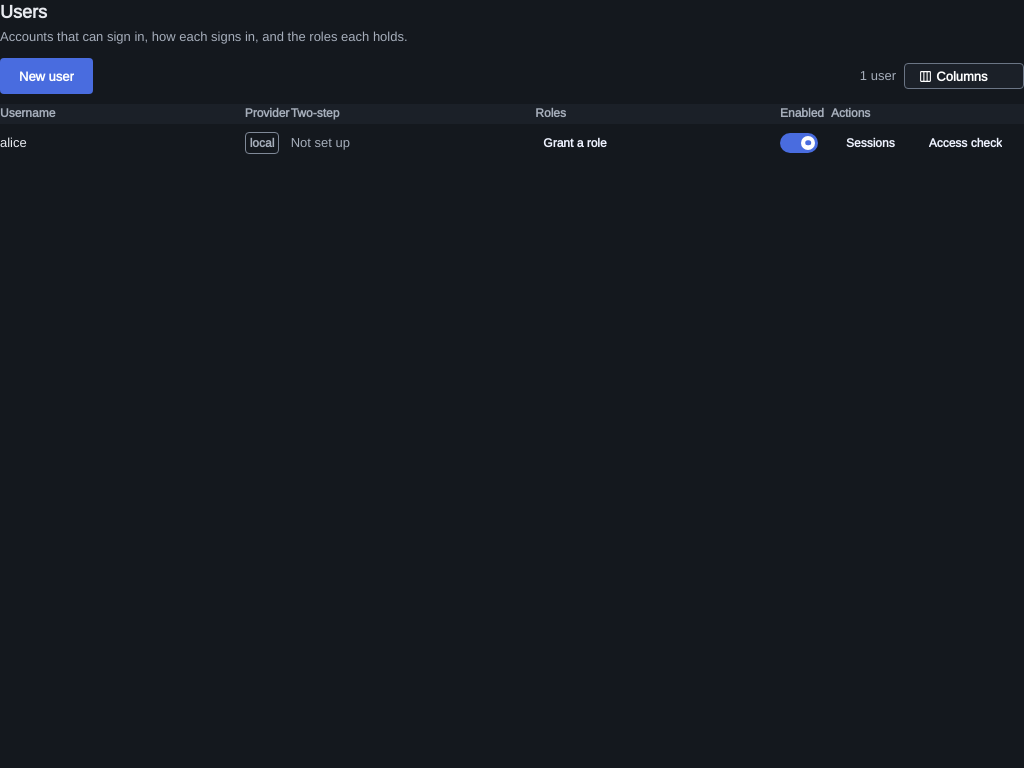
Test case: the sessions drawer of a user › opens from the row, lists the sessions, ends one and announces it
This screenshot has width=1024, height=768.
Click the button with aria-label "Sessions of alice": (870, 143) x1=831 y1=128 x2=910 y2=158
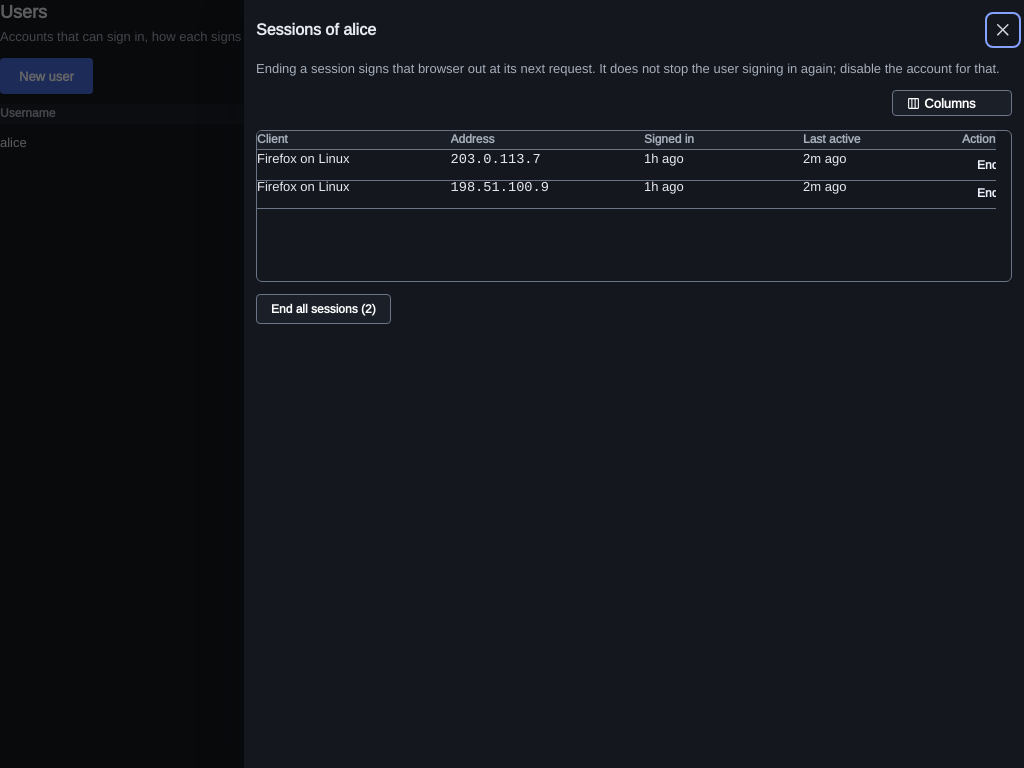
Expected: the text "Firefox on Linux" is shown 2 times, x1=257 y1=150 x2=350 y2=168; x1=257 y1=178 x2=350 y2=196
Click the button with aria-label "End Firefox on Linux at 198.51.100.9": (988, 193) x1=962 y1=178 x2=1013 y2=208
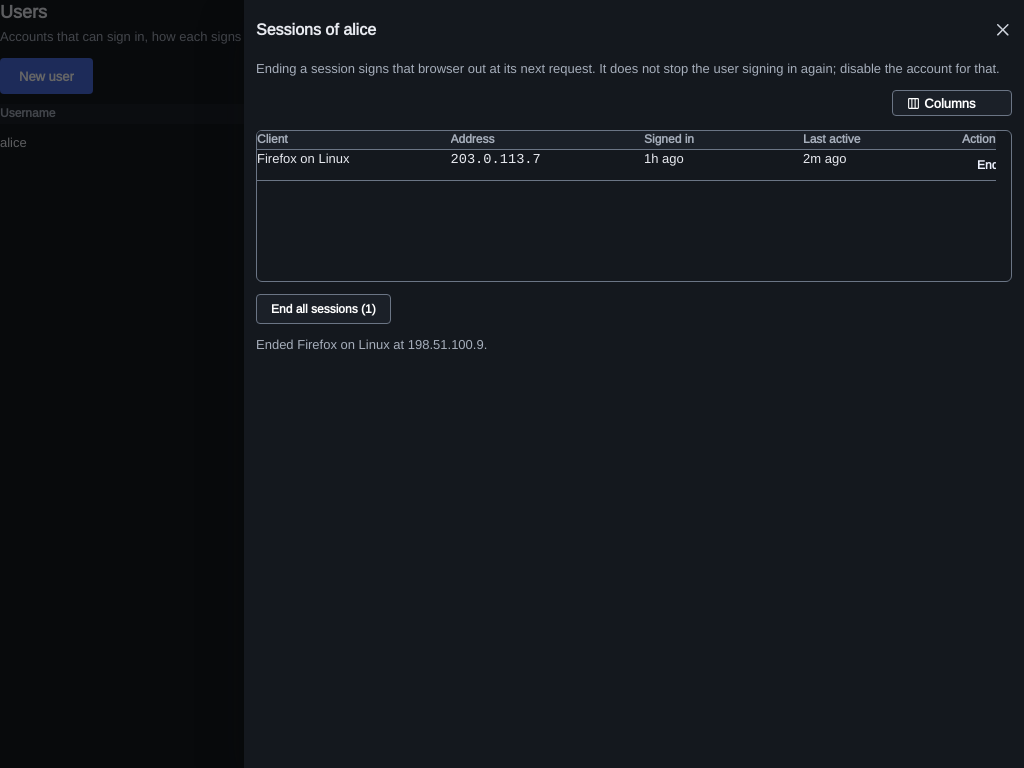
Expected: the element showing "Ended Firefox on Linux at 198.51.100.9." is shown, x1=256 y1=336 x2=487 y2=353
